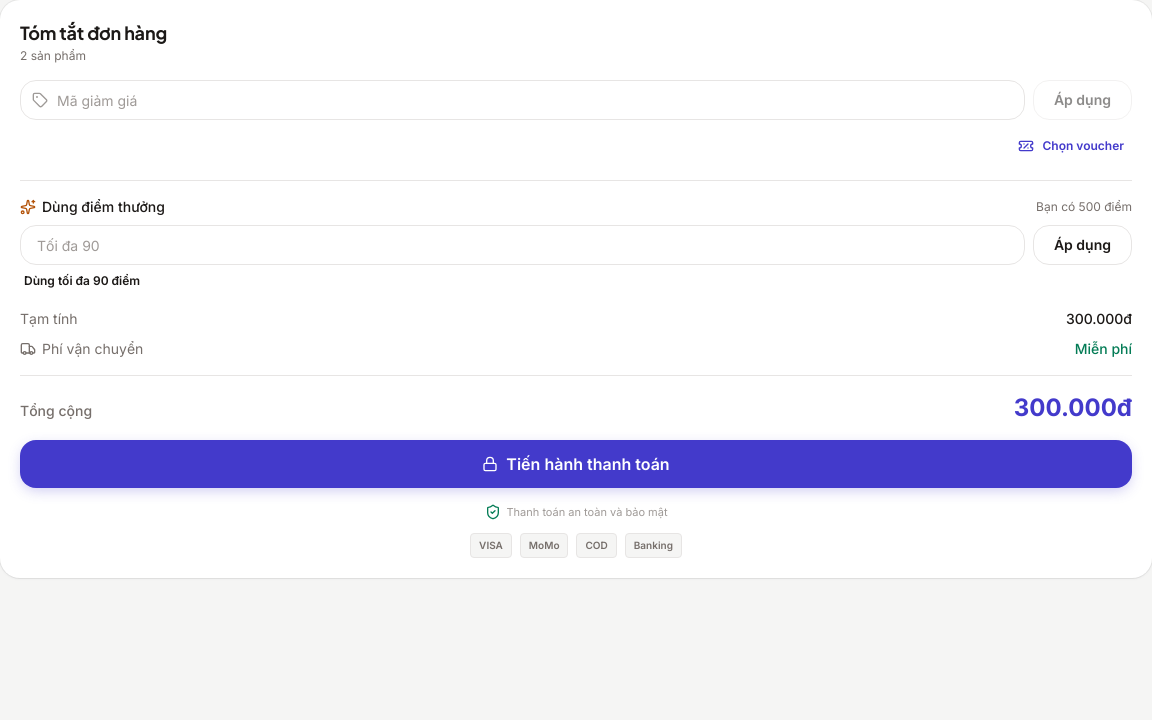
Test: OrderSummaryCard - loyalty points › applies points and reduces the total
Click the button "Dùng tối đa 90 điểm".
click(82, 281)  # box [20,269,144,293]
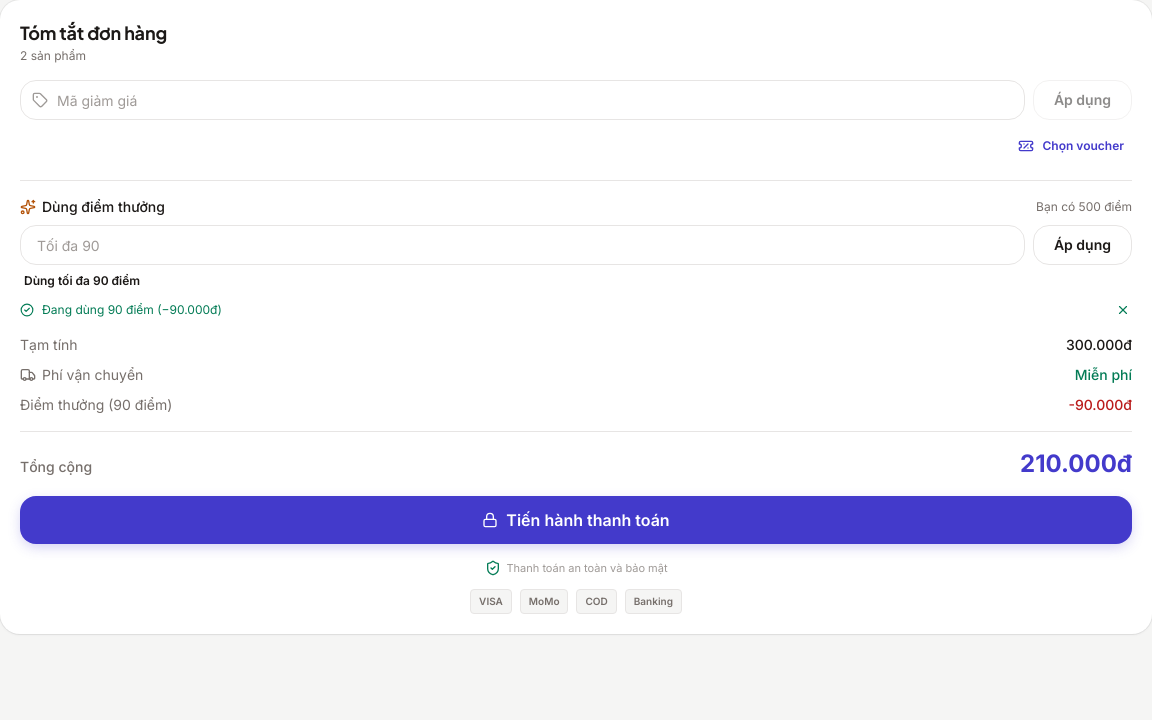
Now the text "Điểm thưởng (90 điểm)" is shown, box [20,395,172,415]
Now the text "210.000đ" is shown, box [1020,448,1132,480]
